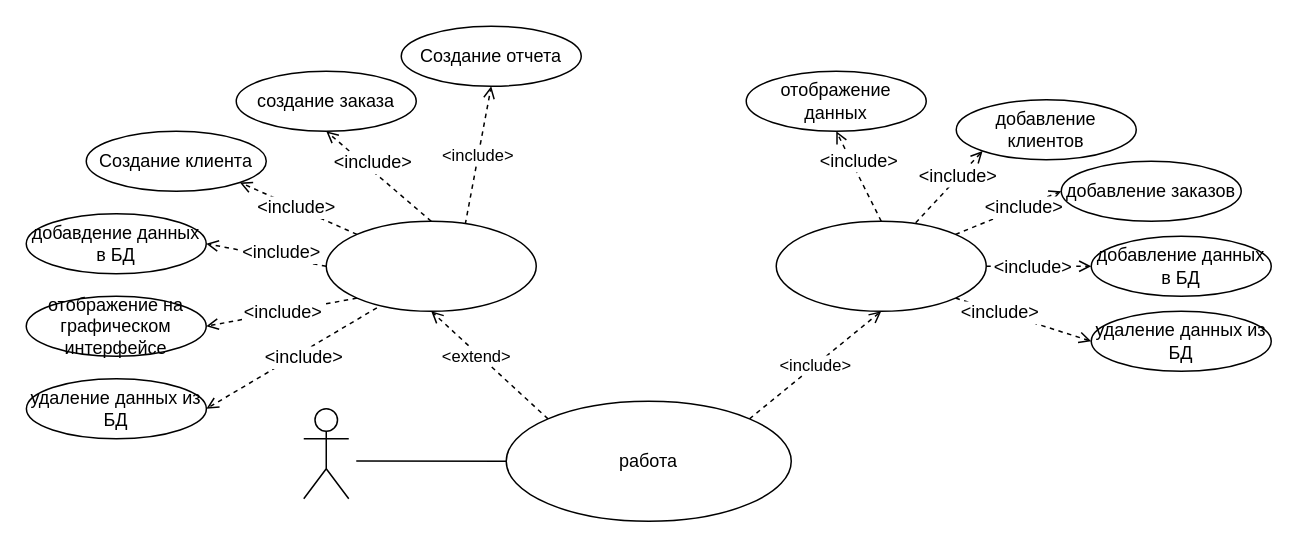
The diagram is 1298 pixels wide and 557 high, and some of its shapes have lost their labels. The centre of each missing label's shape, as x and y in pixels:
"Администратор" belongs at (325,453).
"ручное редактирование" belongs at (880,265).
"Симуляция" belongs at (430,265).
